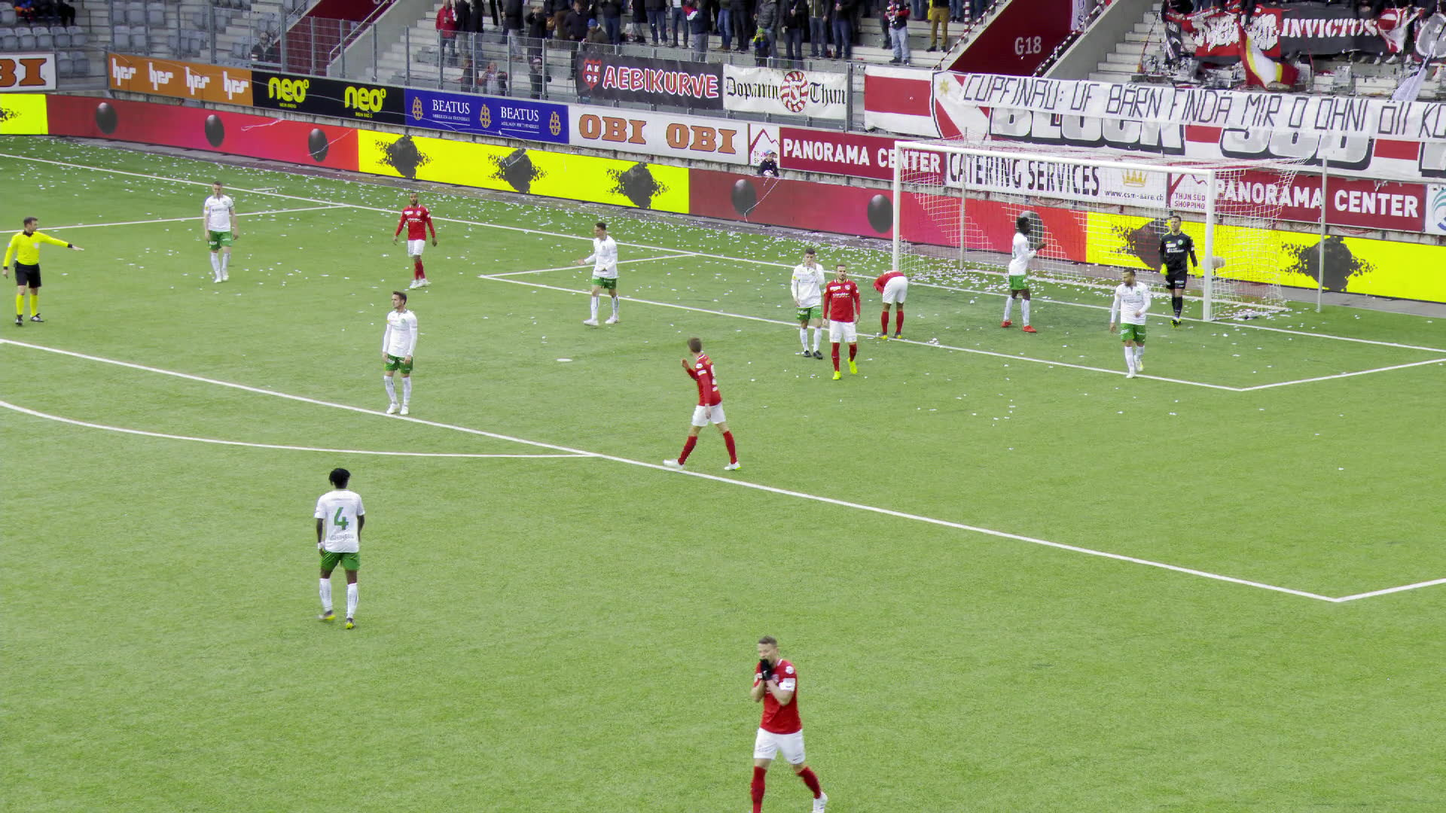player: (740, 630, 821, 812), (666, 333, 743, 469), (312, 464, 368, 628), (1001, 212, 1054, 328), (1158, 211, 1202, 328), (379, 287, 419, 414), (576, 218, 621, 329), (1108, 264, 1152, 376), (822, 261, 863, 378), (789, 247, 828, 361), (200, 181, 242, 282), (395, 189, 438, 287), (874, 266, 909, 338)
referee: (4, 213, 84, 324)
